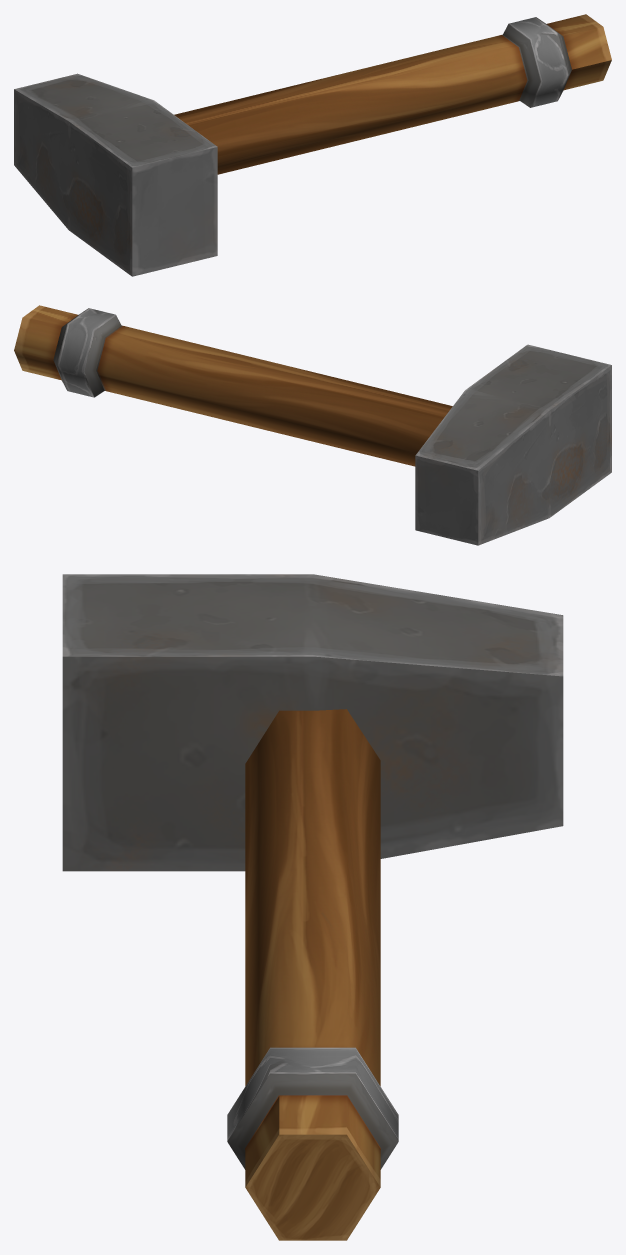
File: Hammer.FBX
3 views of the same model, one above another, from view 1: azimuth 30°, elevation 25°; view 2: azimuth 150°, elevation 25°; view 3: azimuth 270°, elevation 25° (orthographic). The views are drawn at different scales.
Parts seen in each view (by area): view 1: Hammer; view 2: Hammer; view 3: Hammer.
Boxes of the visible parts, x1=… form: Hammer: x1=14, y1=14, x2=611, y2=276; Hammer: x1=14, y1=305, x2=611, y2=545; Hammer: x1=62, y1=574, x2=563, y2=1240.
Bounding box in the file's own units: 2.39 × 0.4734 × 1.
